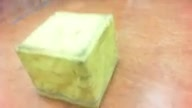cube: (15, 11, 119, 107)
